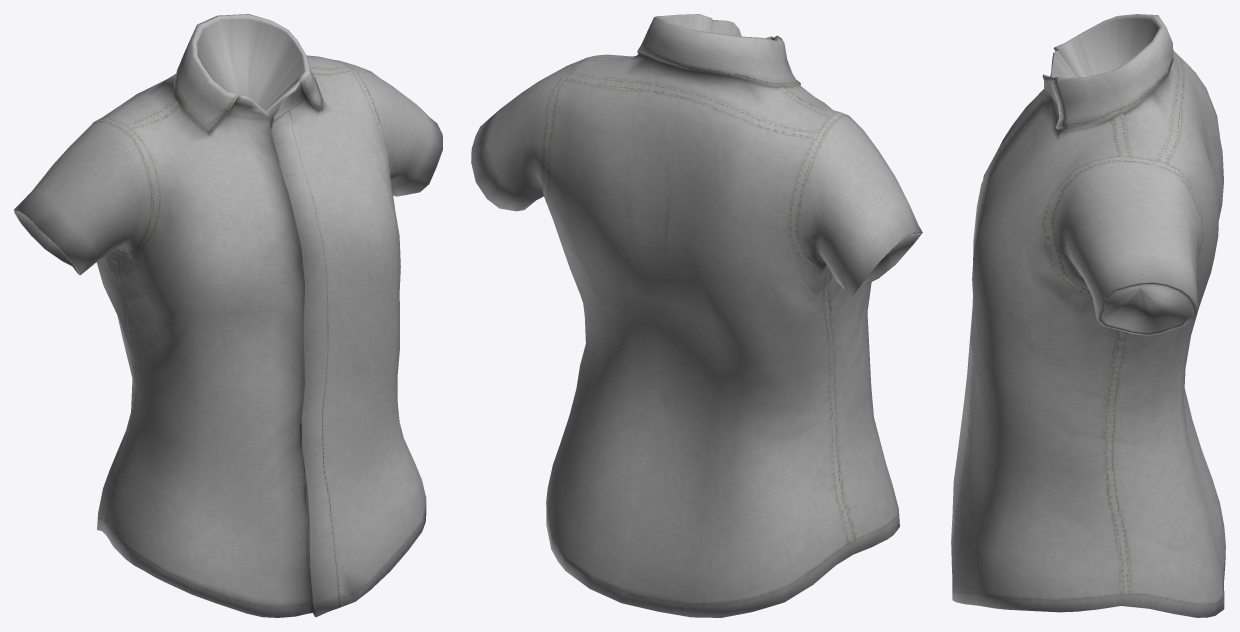
File: v3_phr_female_UA_top_shirt_basic_ss_white.glb
3 views of the same model, side by side, from view 1: azimuth 30°, elevation 25°; view 2: azimuth 150°, elevation 25°; view 3: azimuth 270°, elevation 25° (orthographic). The views are drawn at different scales.
Parts seen in each view (by area): view 1: UnionAvatars_Top; view 2: UnionAvatars_Top; view 3: UnionAvatars_Top.
Part boxes in pixels (x1,y1,x2,y2): UnionAvatars_Top: (14, 14, 442, 617); UnionAvatars_Top: (471, 14, 922, 617); UnionAvatars_Top: (951, 14, 1225, 617).
Bounding box in the file's own units: 0.4815 × 0.6075 × 0.269.
Materials: 1 (1 with a texture image).
